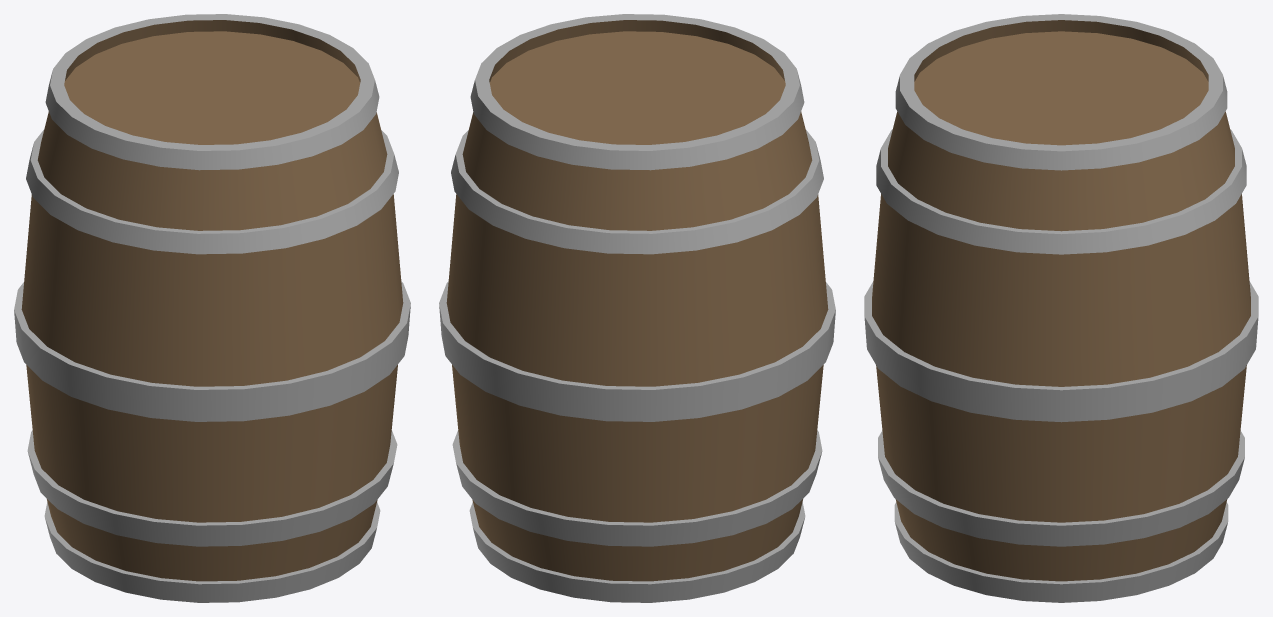
The model's file is Barrel2.fbx.
3 views of the same model, side by side, from view 1: azimuth 30°, elevation 25°; view 2: azimuth 150°, elevation 25°; view 3: azimuth 270°, elevation 25° (orthographic).
Parts seen in each view (by area): view 1: pCylinder1; view 2: pCylinder1; view 3: pCylinder1.
Boxes of the visible parts, bbox=[...] form: pCylinder1: bbox=[14, 14, 410, 602]; pCylinder1: bbox=[439, 14, 835, 602]; pCylinder1: bbox=[864, 14, 1258, 602].
Size of the model in its own units: 7.03 by 8.82 by 6.98.
